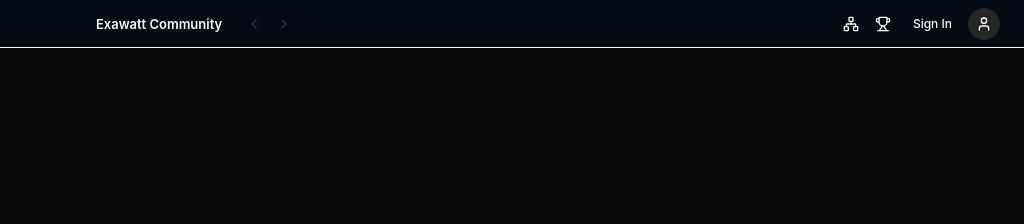
it: SiteHeaderNav account menu › offers Sign in when signed out in the desktop app
Press the mouse on the button named "Account and Workspace menu" at (984, 24), box left=968, top=8, right=1000, bottom=40
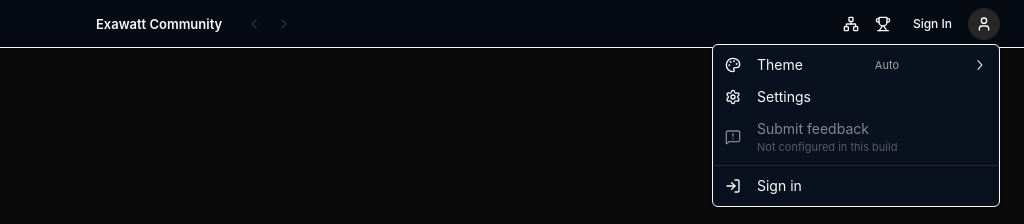
Expected: the menu item "Sign in" is shown, left=725, top=177, right=802, bottom=194
